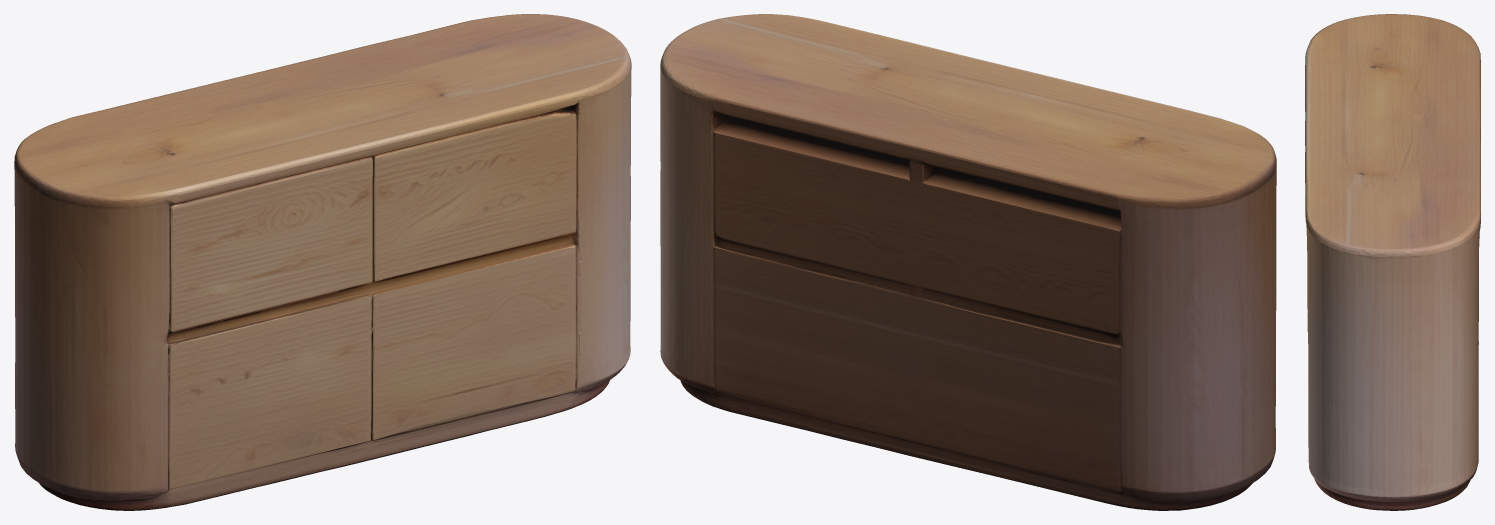
File: COMODA 36 ROSA MORADA CLARA.glb
3 views of the same model, side by side, from view 1: azimuth 30°, elevation 25°; view 2: azimuth 150°, elevation 25°; view 3: azimuth 270°, elevation 25° (orthographic). The views are drawn at different scales.
Parts seen in each view (by area): view 1: world; view 2: world; view 3: world.
Part boxes in pixels (box(x1,y1,x2,y2)): world: box(14, 14, 631, 510); world: box(660, 14, 1276, 510); world: box(1305, 14, 1480, 510).
Size of the model in its own units: 1 by 0.5272 by 0.3117.
Materials: 1 (1 with a texture image).
